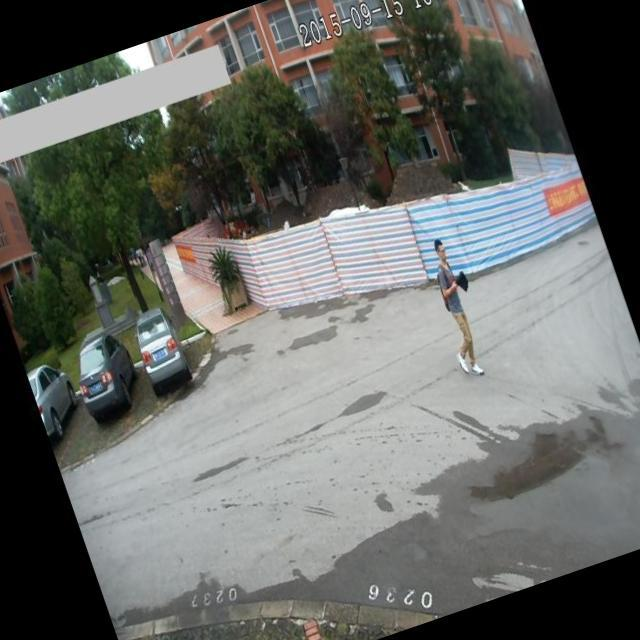person: (417, 230, 498, 379)
